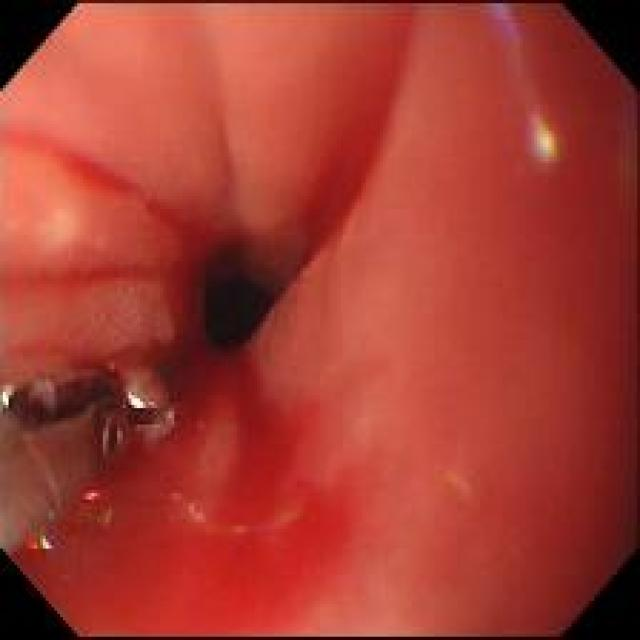color misalignment: (490, 3, 532, 65), (527, 115, 570, 165), (24, 527, 58, 557), (83, 493, 102, 501)
contrast: (198, 247, 285, 353)
instrument: (2, 358, 178, 548)
specularity: (2, 390, 10, 407), (130, 396, 143, 405)
